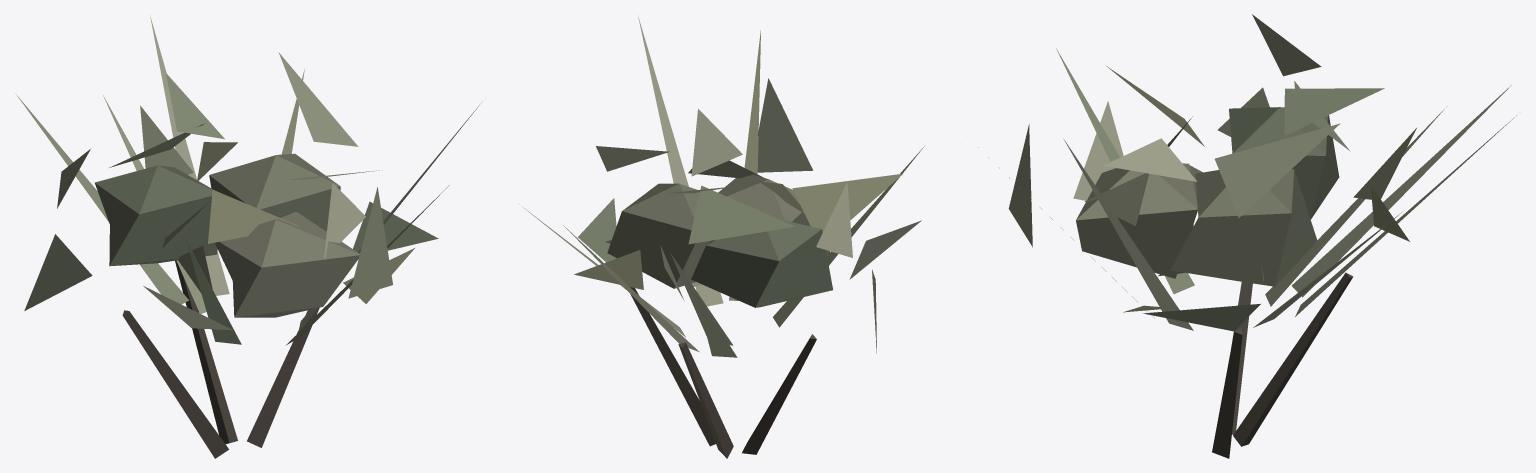
The model's file is sand-sage-lite.glb.
The picture shows the model from 3 angles, left to right: view 1: azimuth 30°, elevation 25°; view 2: azimuth 150°, elevation 25°; view 3: azimuth 270°, elevation 25°; orthographic projection. The views are drawn at different scales.
Visible parts, largest first — view 1: sand-sage-lite / foliage-core, sand-sage-lite / foliage, sand-sage-lite / wood; view 2: sand-sage-lite / foliage, sand-sage-lite / foliage-core, sand-sage-lite / wood; view 3: sand-sage-lite / foliage, sand-sage-lite / foliage-core, sand-sage-lite / wood.
Part boxes in pixels (x1,y1,x2,y2): sand-sage-lite / foliage-core: [95, 153, 359, 317]; sand-sage-lite / foliage: [15, 15, 482, 345]; sand-sage-lite / wood: [122, 260, 319, 458]; sand-sage-lite / foliage: [519, 17, 924, 357]; sand-sage-lite / foliage-core: [607, 174, 832, 307]; sand-sage-lite / wood: [630, 287, 816, 458]; sand-sage-lite / foliage: [978, 14, 1516, 331]; sand-sage-lite / foliage-core: [1076, 107, 1339, 286]; sand-sage-lite / wood: [1212, 272, 1353, 458].
Size of the model in its own units: 1.05 by 1.03 by 1.3.
